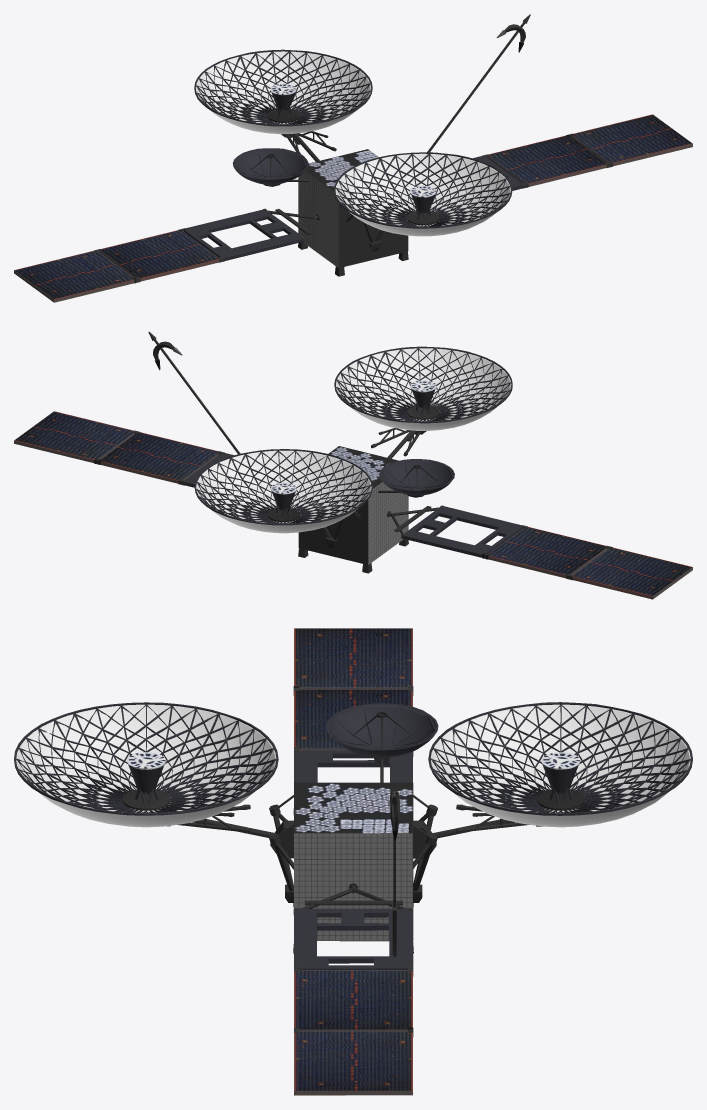
File: tdrs_lod0.glb
3 renders of one model, top to bottom at view 1: azimuth 30°, elevation 25°; view 2: azimuth 150°, elevation 25°; view 3: azimuth 270°, elevation 25°, orthographic. The views are drawn at different scales.
Visible parts, largest first — view 1: tdrs_lod0; view 2: tdrs_lod0; view 3: tdrs_lod0.
Boxes of the visible parts, box(x1,y1,x2,y2) form: tdrs_lod0: box(14, 14, 692, 302); tdrs_lod0: box(14, 331, 692, 599); tdrs_lod0: box(14, 628, 692, 1095).
Size of the model in its own units: 20.75 by 5.66 by 12.88.
Materials: 5 (3 with a texture image).
